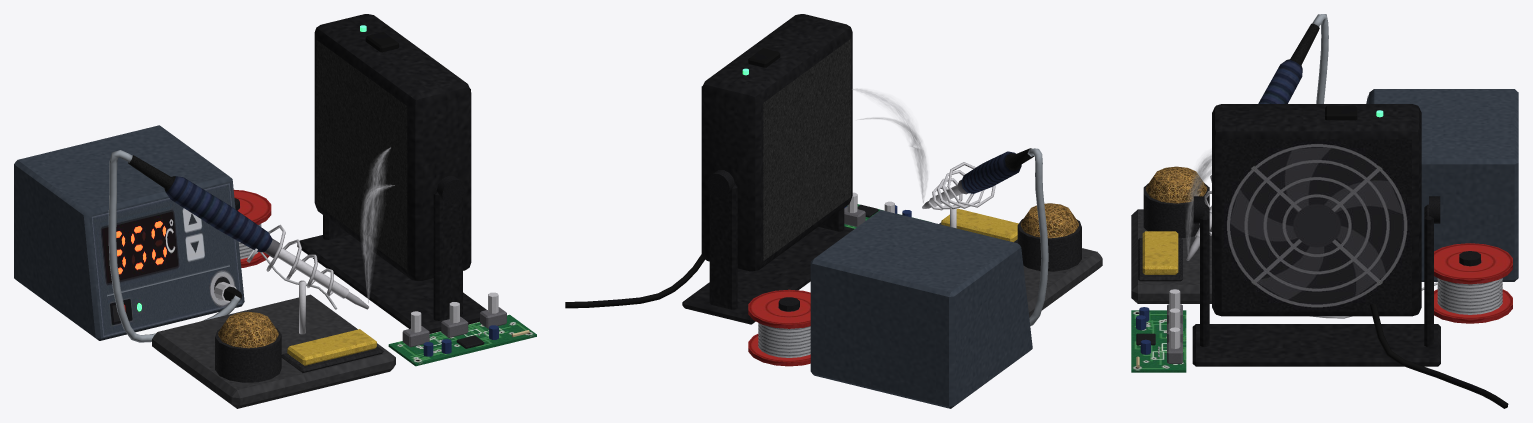
The model's file is solder-station.glb.
3 views of the same model, side by side, from view 1: azimuth 30°, elevation 25°; view 2: azimuth 150°, elevation 25°; view 3: azimuth 270°, elevation 25° (orthographic). The views are drawn at different scales.
Visible parts, largest first — view 1: solder_station, smoke_wisp; view 2: solder_station, smoke_wisp; view 3: solder_station, smoke_wisp.
Boxes of the visible parts, box(x1,y1,x2,y2) form: solder_station: box(14, 14, 536, 408); smoke_wisp: box(361, 147, 394, 303); solder_station: box(565, 14, 1102, 408); smoke_wisp: box(852, 88, 927, 202); solder_station: box(1131, 14, 1518, 408); smoke_wisp: box(1185, 154, 1211, 254).
Size of the model in its own units: 0.2974 by 0.164 by 0.24.
Materials: 2 (2 with a texture image).
